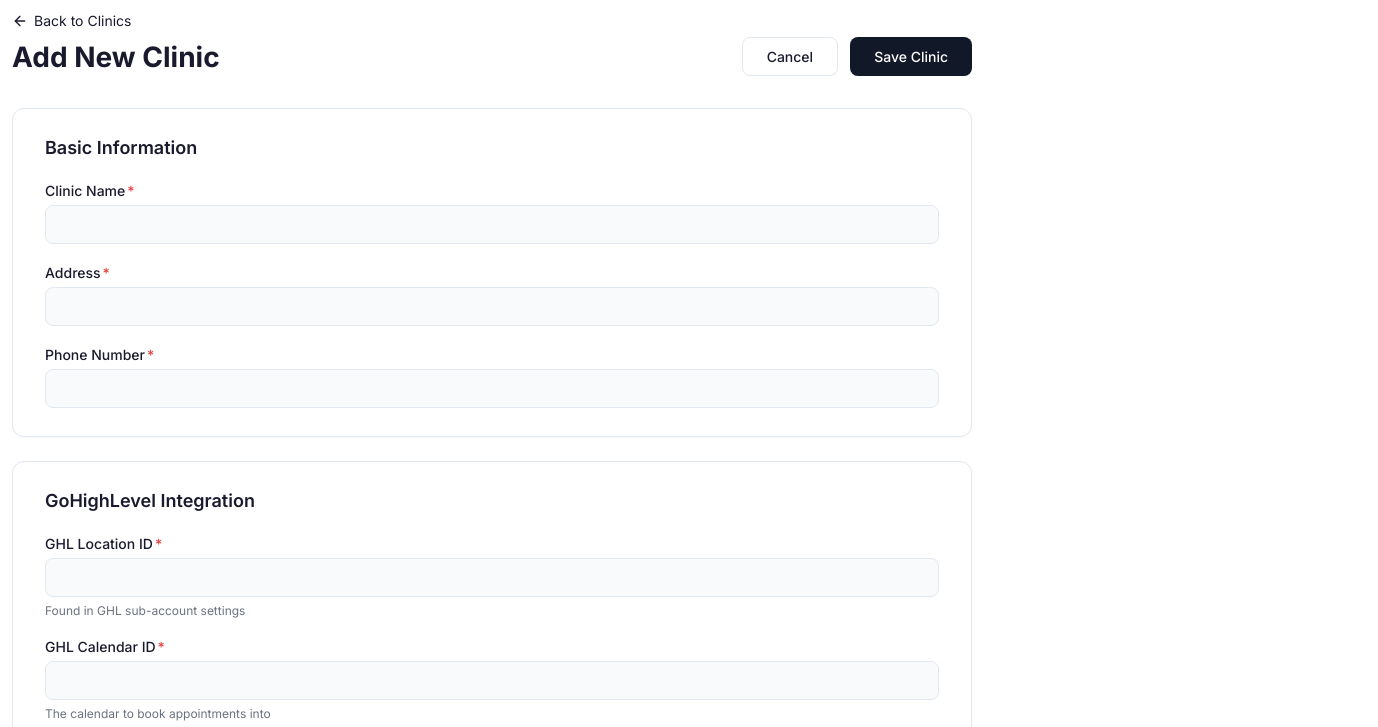
AddClinicPage › should clear field error when user types in the field
Click the button "Save Clinic".
click(911, 56)  # box [850,37,972,76]
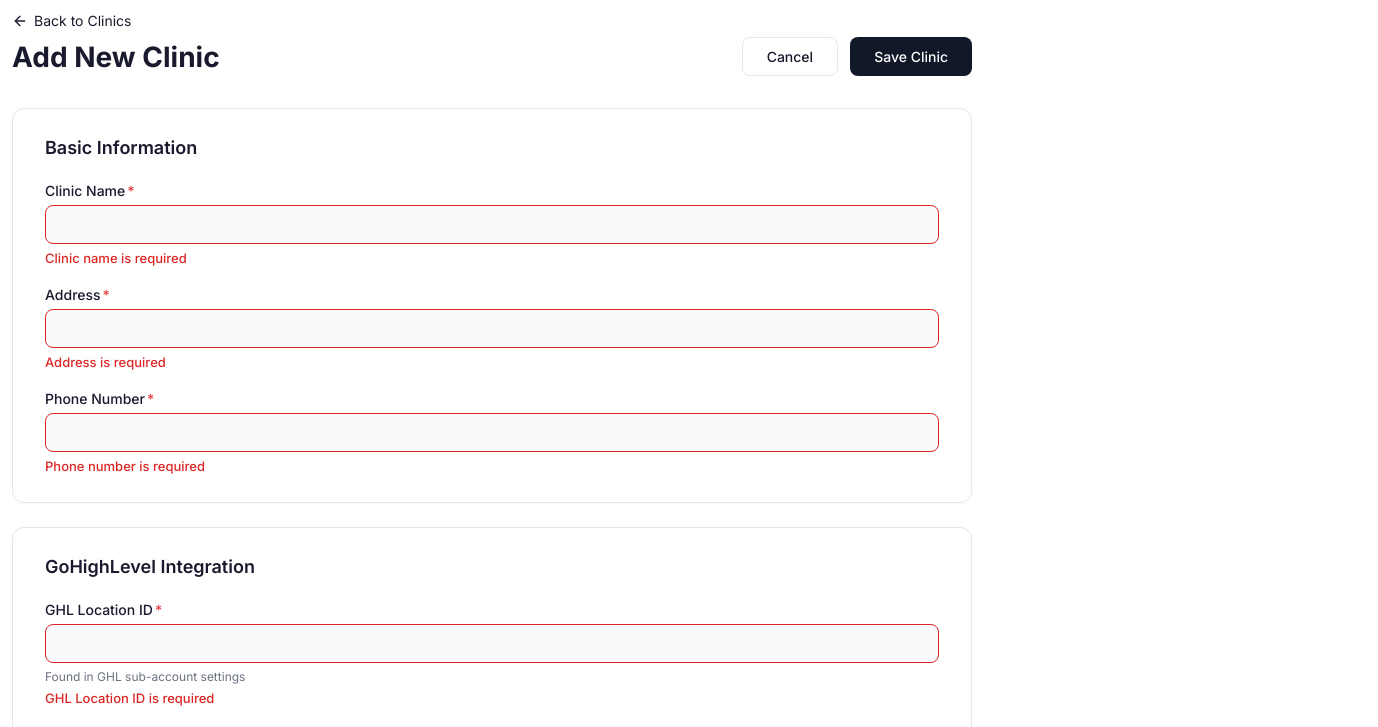
Expected: the text "Clinic name is required" is shown, [45,250,187,266]
Type "New Clinic" into the 1st field.
click(492, 224); type("New Clinic")  # box [45,205,939,244]
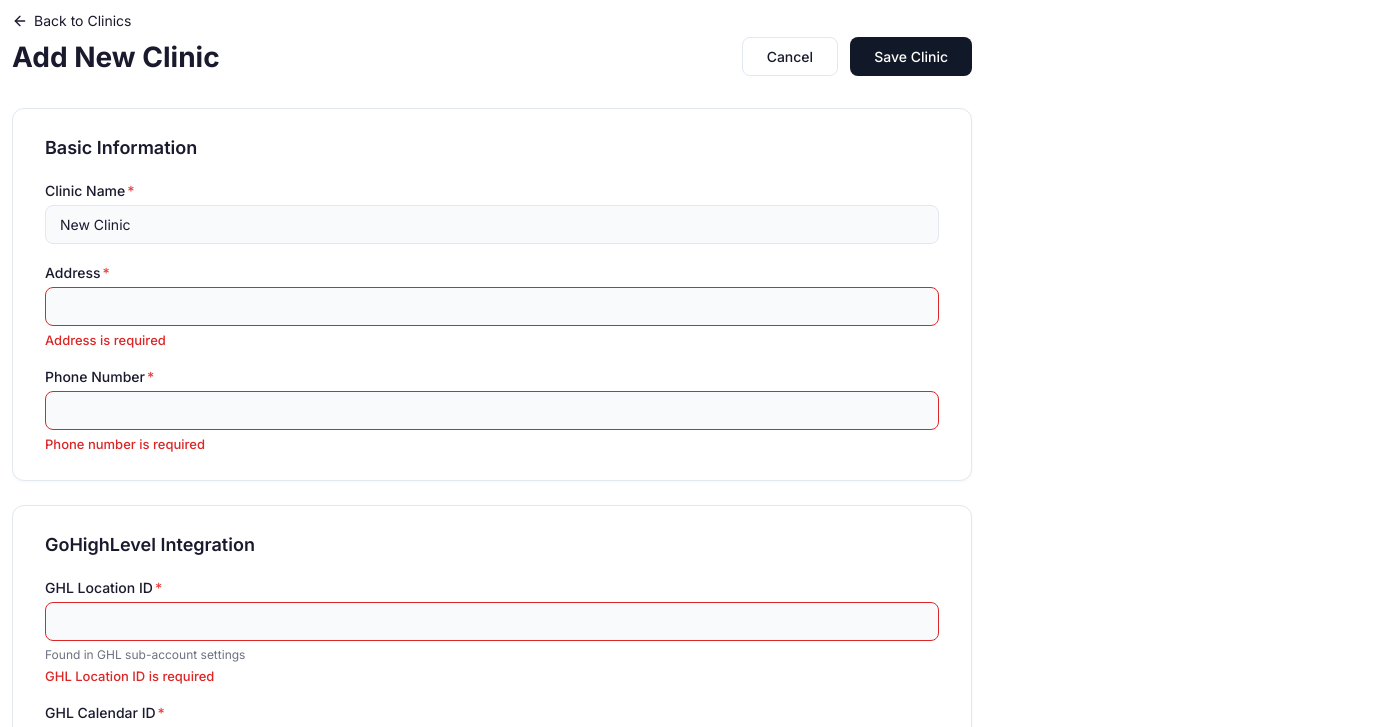
Expected: the text "Clinic name is required" is gone
